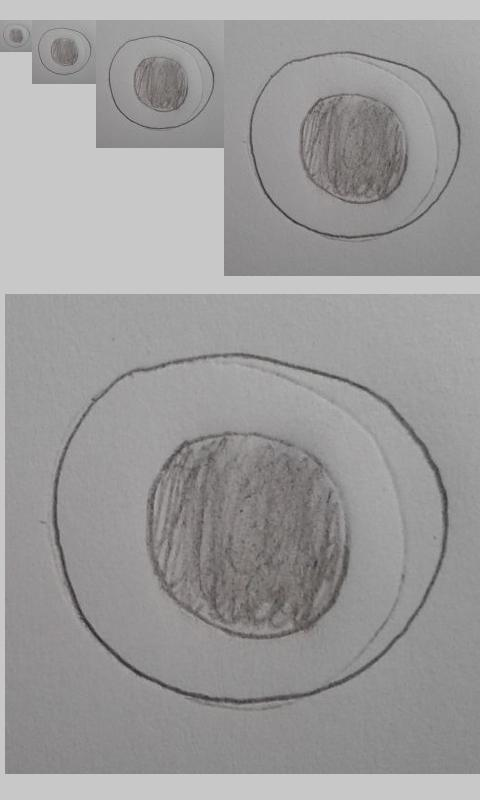radio_button: (51, 348, 452, 709), (248, 50, 463, 241), (107, 34, 217, 131), (36, 26, 93, 77), (2, 22, 31, 49)
